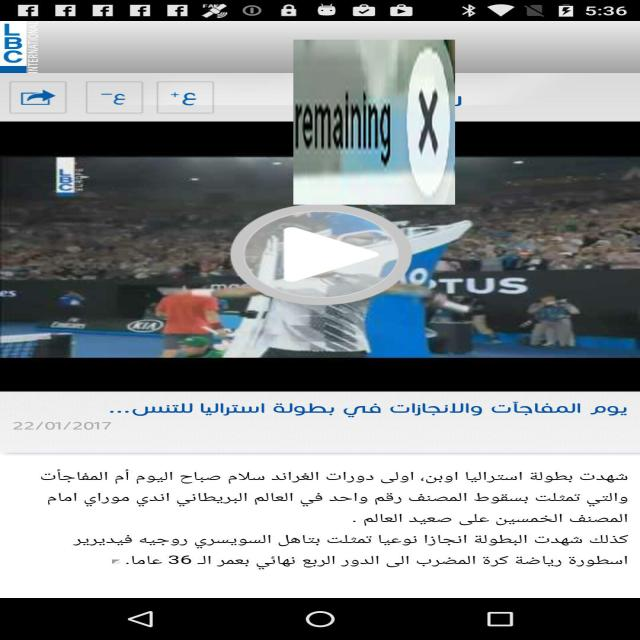misdirection: (293, 39, 455, 204)
